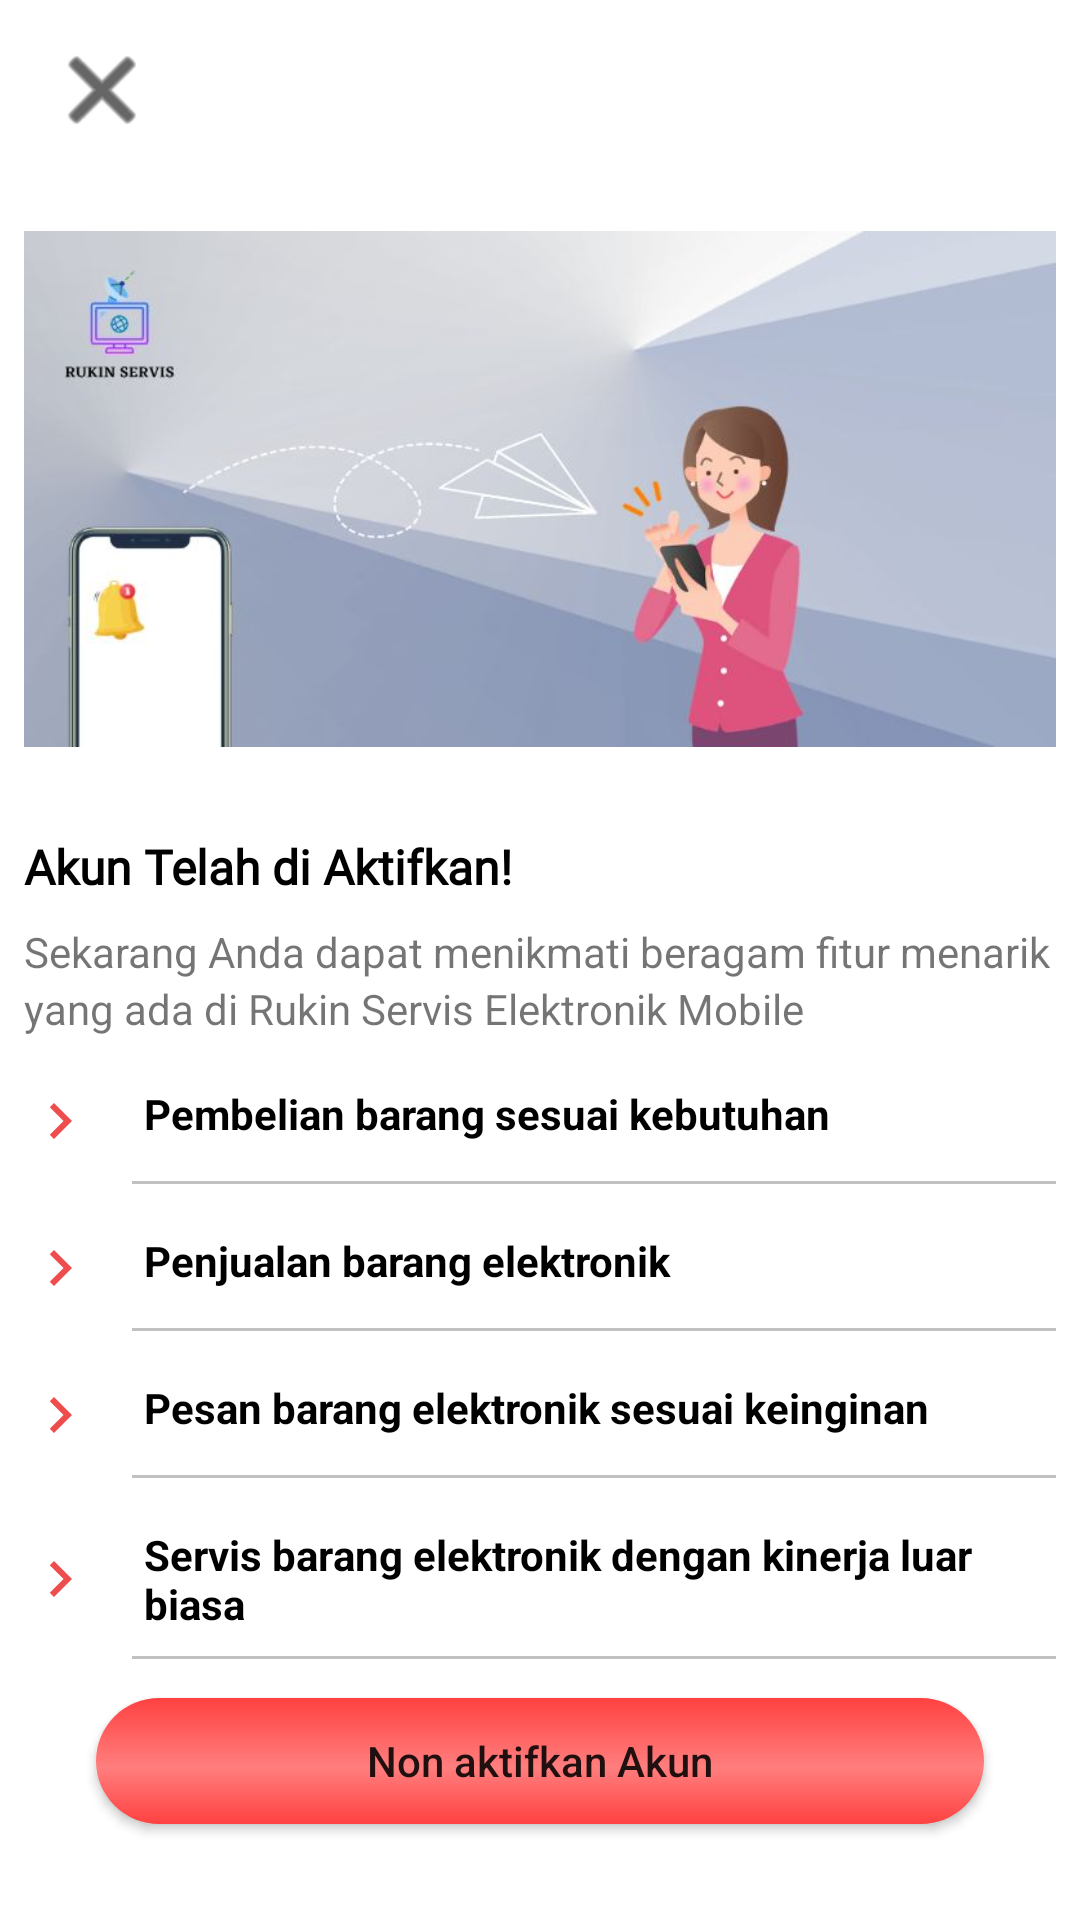

Where to tap for icons on this 1080x1920 app screen, as (x=x, y=y):
close clear cancel: (x=102, y=90)
